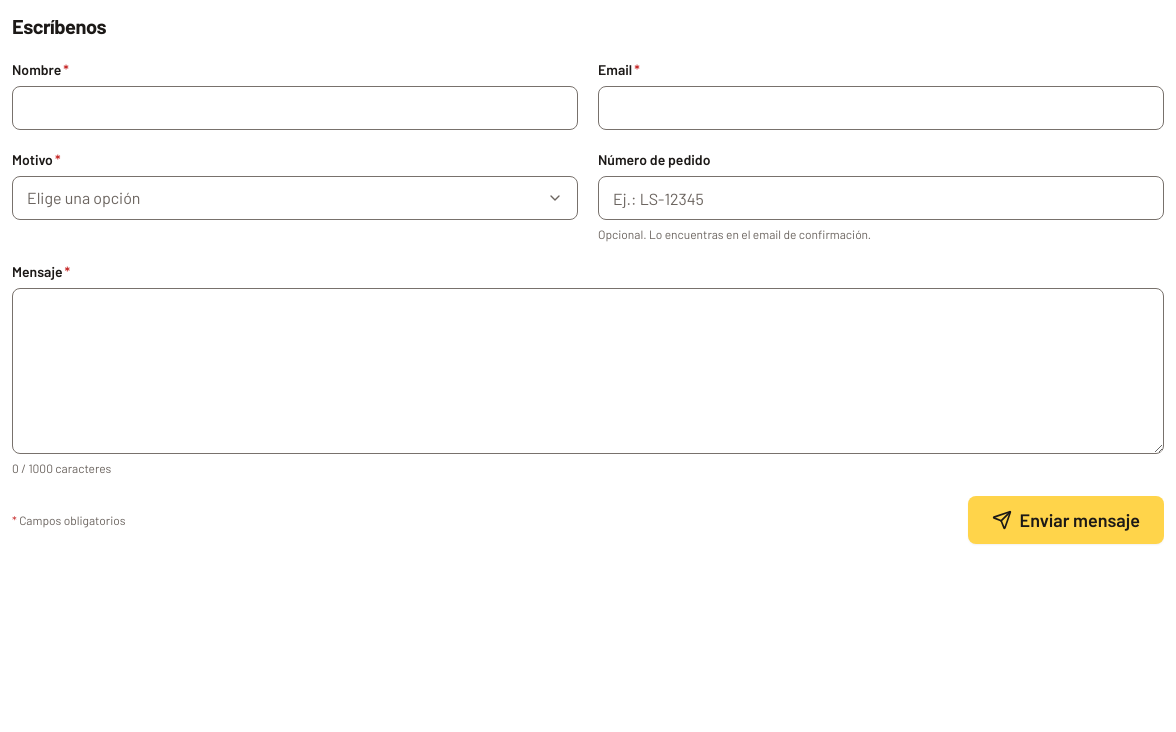
ContactForm › flags every missing required field on submit
Click the button "Enviar mensaje" at point(1066, 520), box [968,496,1164,544]
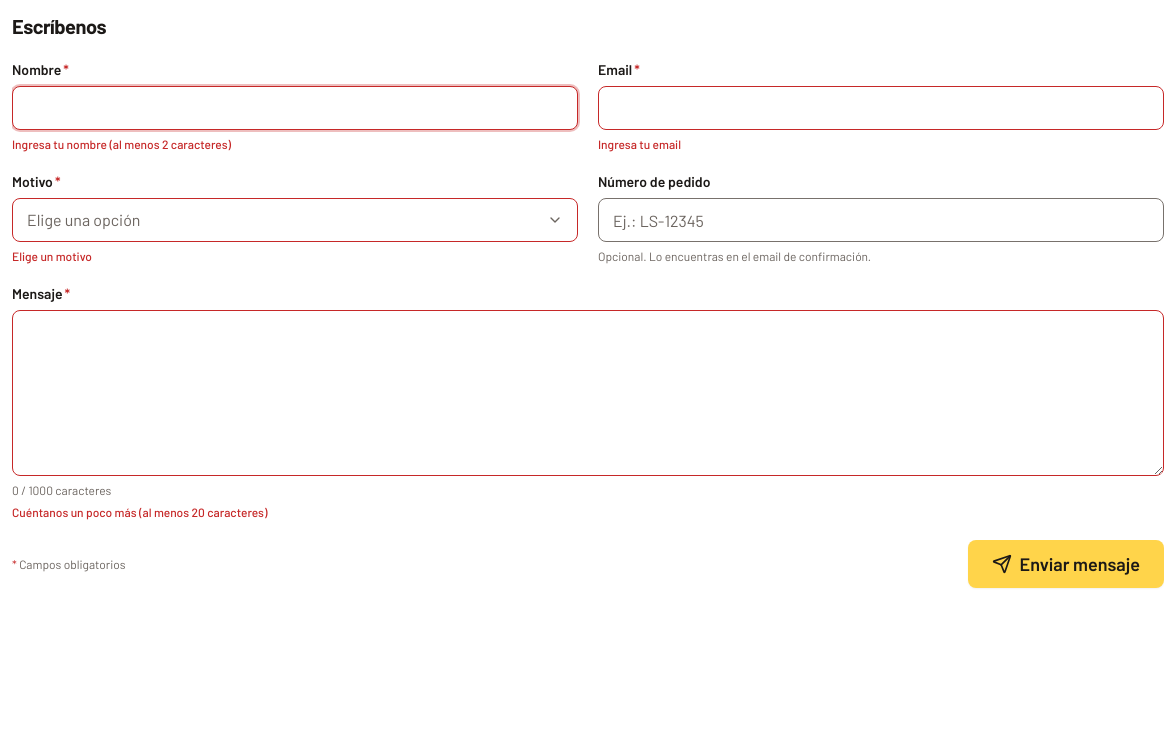
Result: the text "Ingresa tu nombre (al menos 2 caracteres)" is shown at [12,137,231,151]
Result: the text "Ingresa tu email" is shown at [598,137,681,151]
Result: the text "Elige un motivo" is shown at [12,249,92,263]
